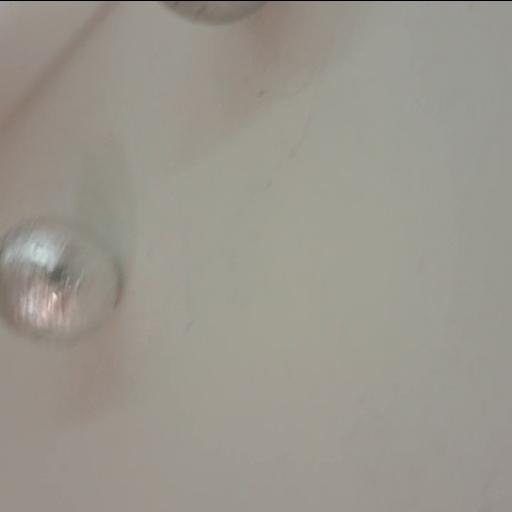alive: (0, 214, 120, 347), (150, 0, 272, 26)
